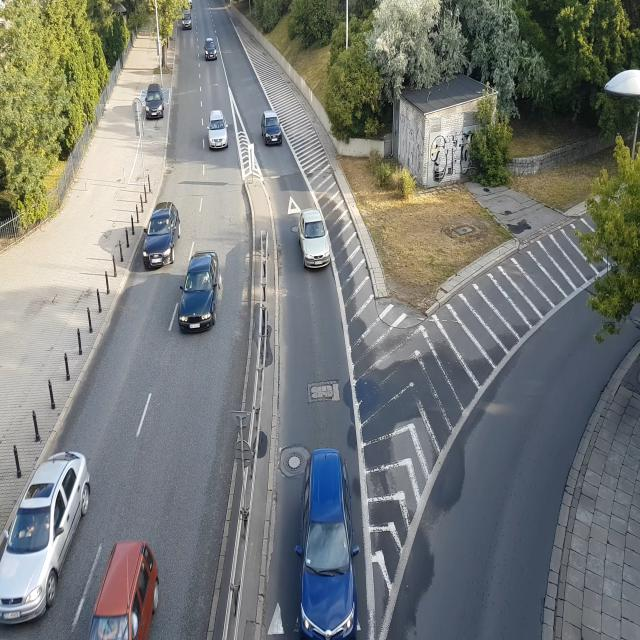car: (0, 441, 89, 620), (296, 444, 364, 640), (86, 541, 168, 640), (179, 250, 225, 341), (142, 196, 181, 274), (294, 202, 334, 272), (206, 107, 233, 155), (141, 79, 170, 120), (260, 106, 286, 150), (200, 38, 226, 58), (182, 12, 193, 28)
